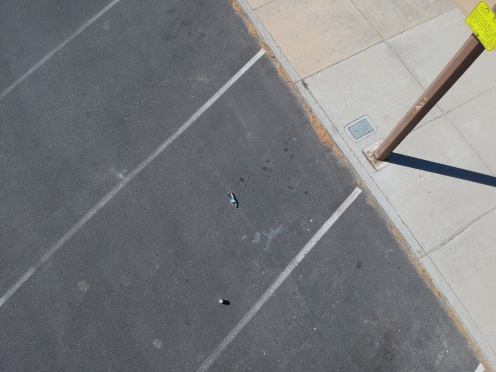bottle: (222, 188, 242, 208)
can: (216, 295, 229, 307)
